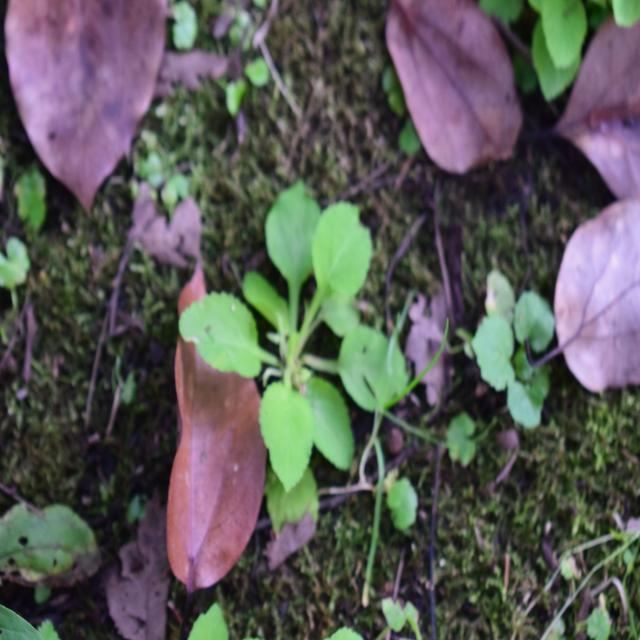Viola: (189, 167, 400, 480)
